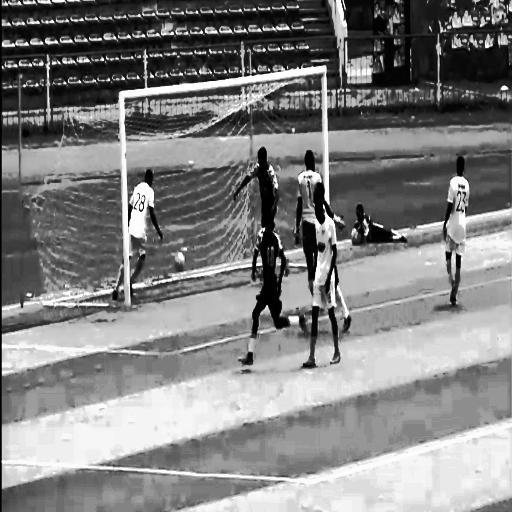ball: (172, 246, 190, 279)
keeper2: (294, 143, 324, 266)
team1: (301, 195, 349, 382), (110, 168, 164, 302), (438, 152, 470, 325)
team2: (231, 202, 310, 376), (240, 134, 282, 230)
